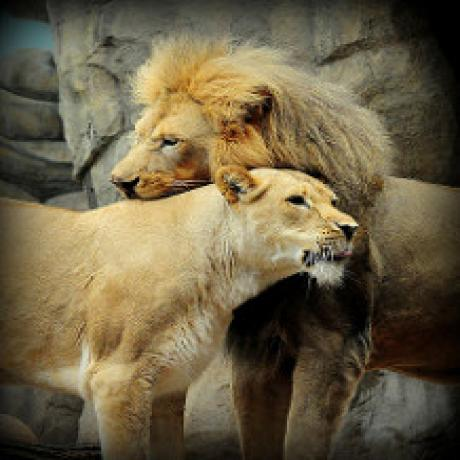Lion: (118, 36, 460, 460), (0, 168, 359, 460)
